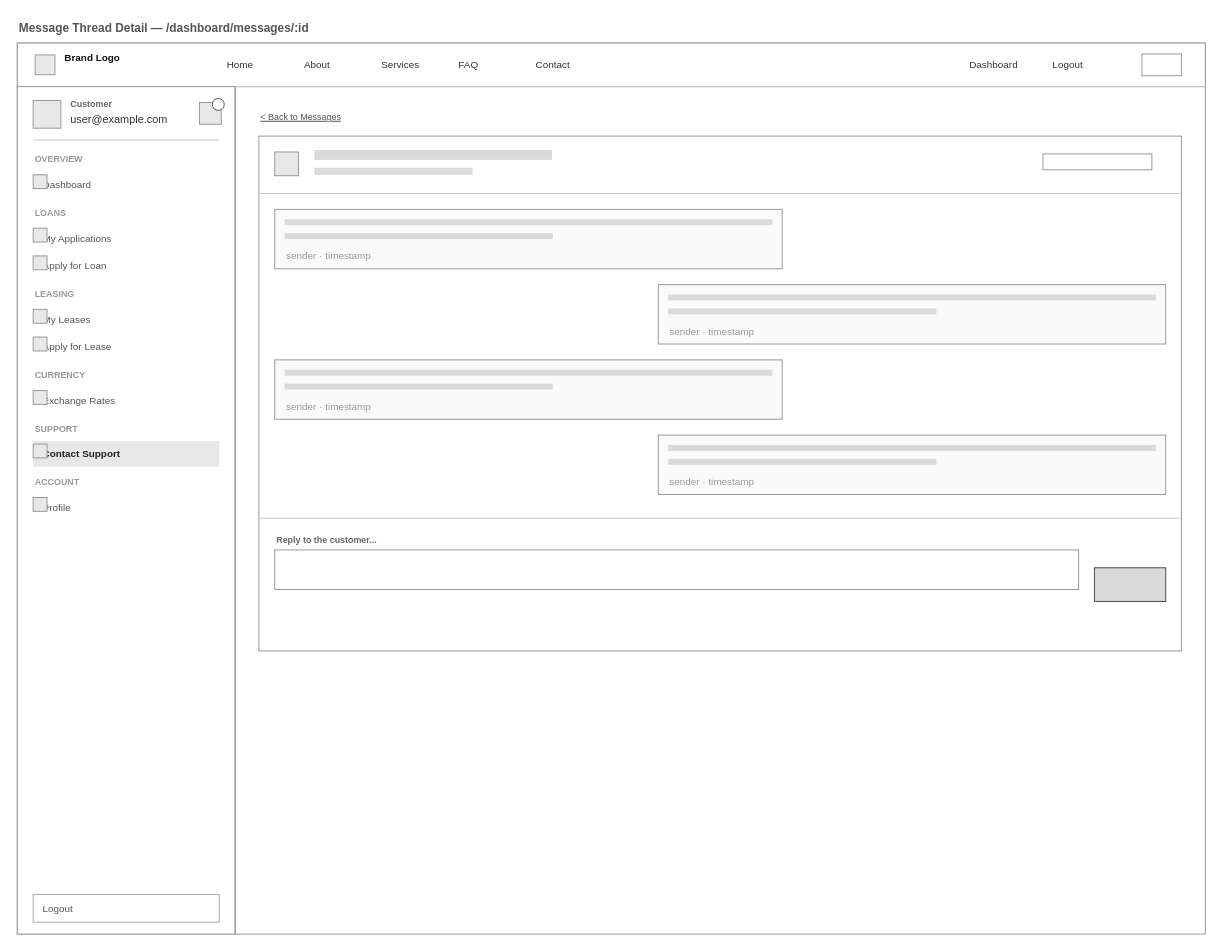
The diagram is 1224 pixels wide and 952 high, and some of its shapes have lost their labels. Each missing label, with the centre of its shape:
"EN ▾" belongs at point 1161,64.
"Send" belongs at point 1129,584.
"Status" belongs at point 1097,161.
